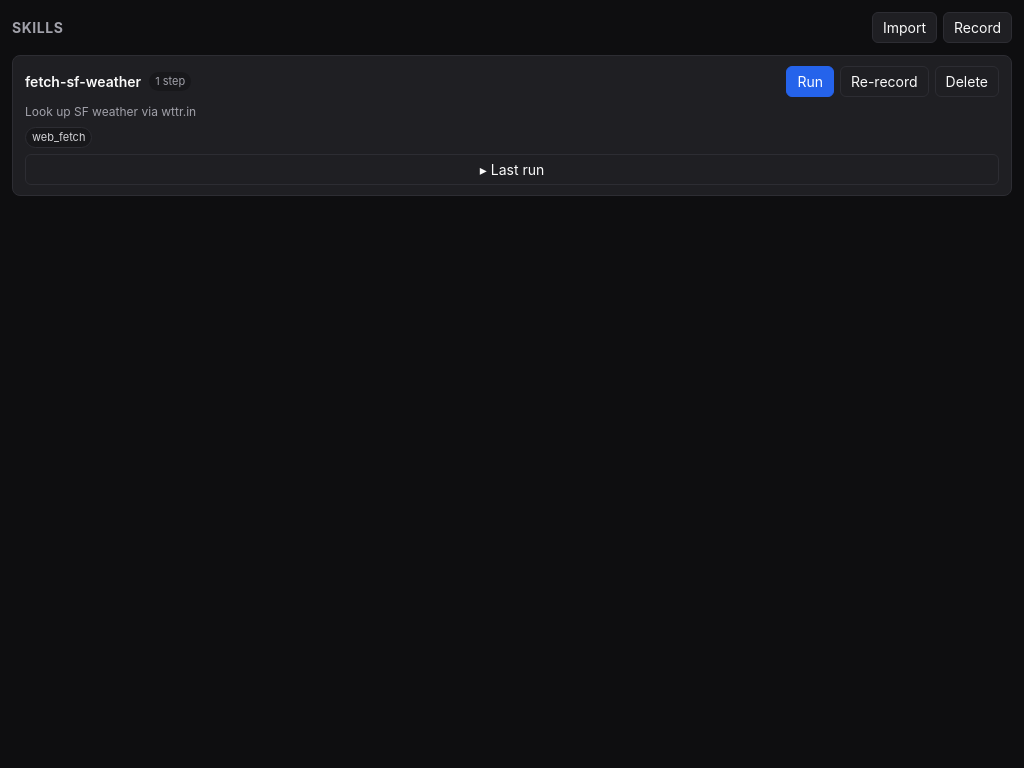
Test: SkillsPanel › opens a preloaded Re-record dialog when the per-row Re-record button is clicked
This screenshot has width=1024, height=768.
Expected: the text "fetch-sf-weather" is shown, top-left (25, 71), bottom-right (141, 92)
Step 1. Click the button with test id "skill-rerecord" → point(884, 82), box top-left (840, 66), bottom-right (929, 97)
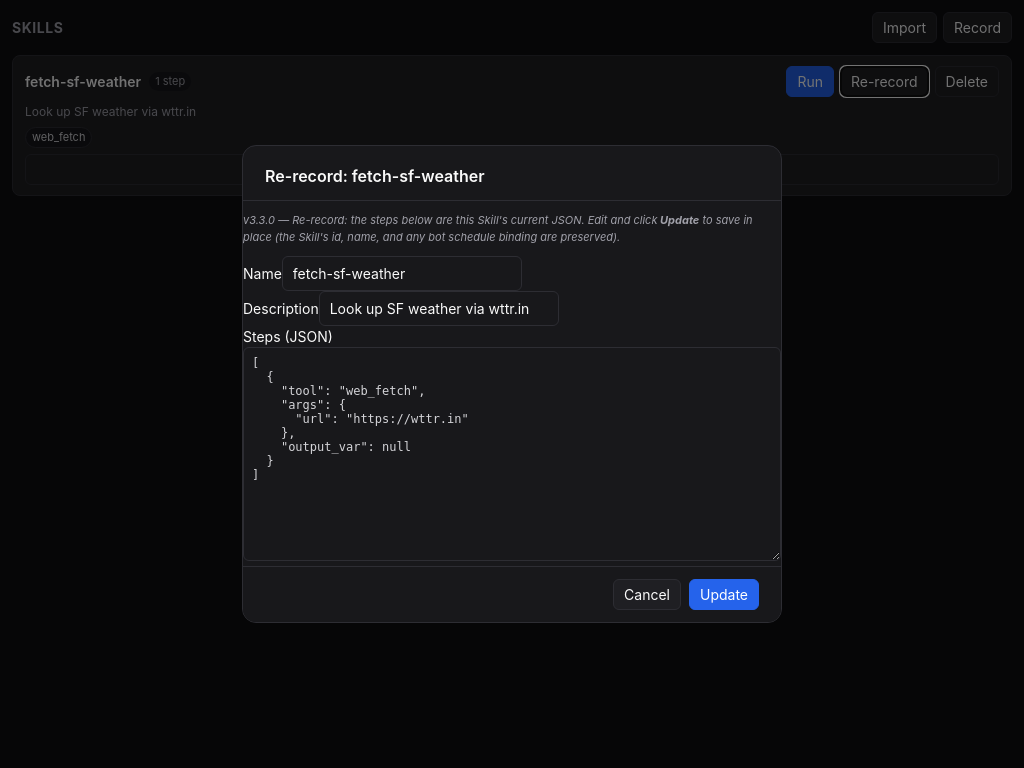
Now the element with test id "record-skill-dialog" is shown, box top-left (242, 145), bottom-right (782, 623)
Now the heading "Re-record: fetch-sf-weather" is shown, box top-left (265, 166), bottom-right (484, 186)
Now the button with test id "skills-dialog-save" reads "Update", box top-left (689, 579), bottom-right (759, 610)
